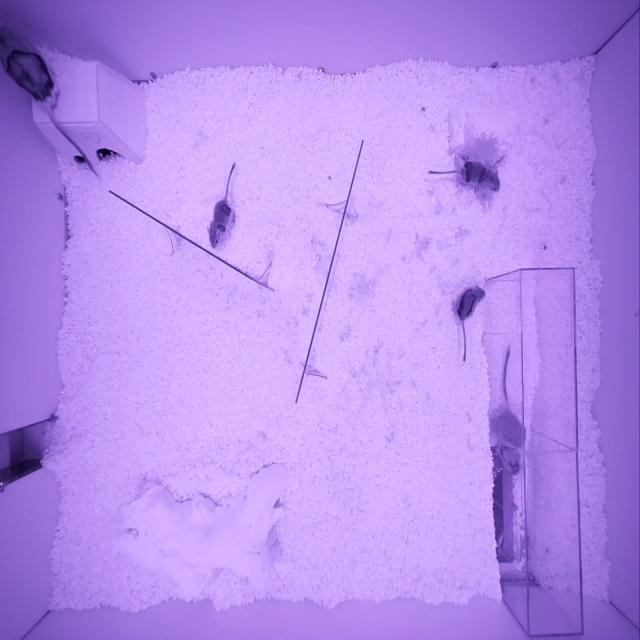adult_back: (1, 24, 59, 110)
adult_front: (492, 407, 527, 476)
pup_h_stripe: (458, 160, 501, 192)
pup_spotted: (207, 200, 233, 248)
pup_v_stripe: (454, 283, 485, 321)
